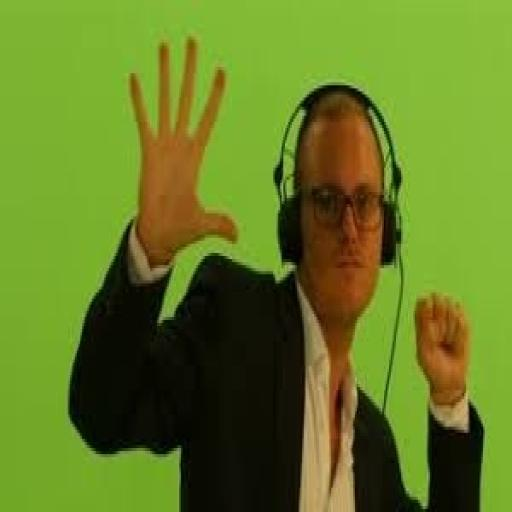listening_to_music: (66, 30, 486, 509)
